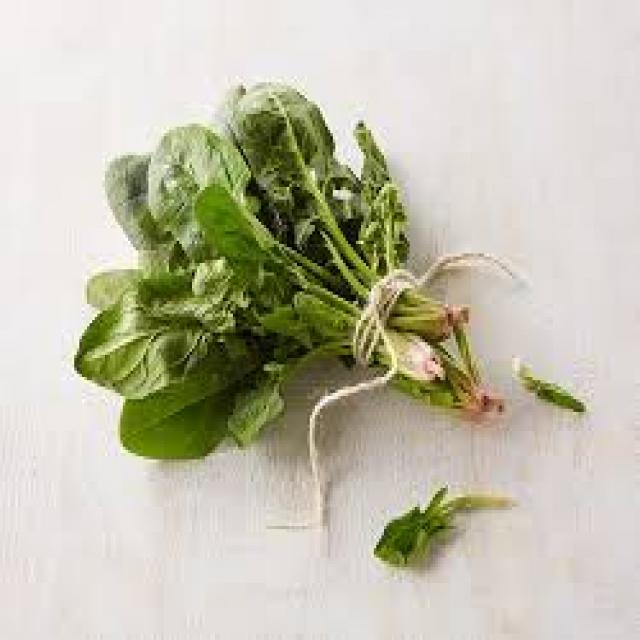Spinach bagged/loose: (74, 86, 503, 459)
